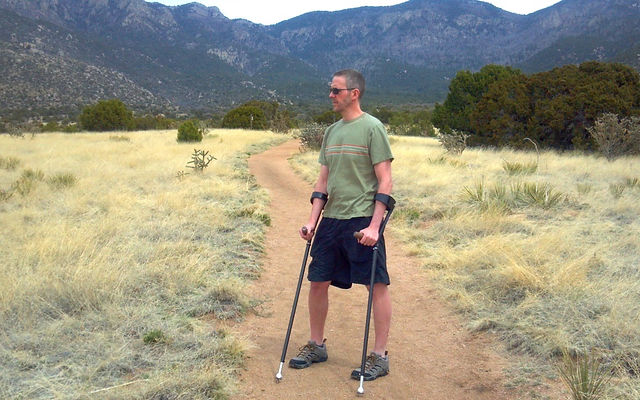crutches: (273, 68, 395, 400)
